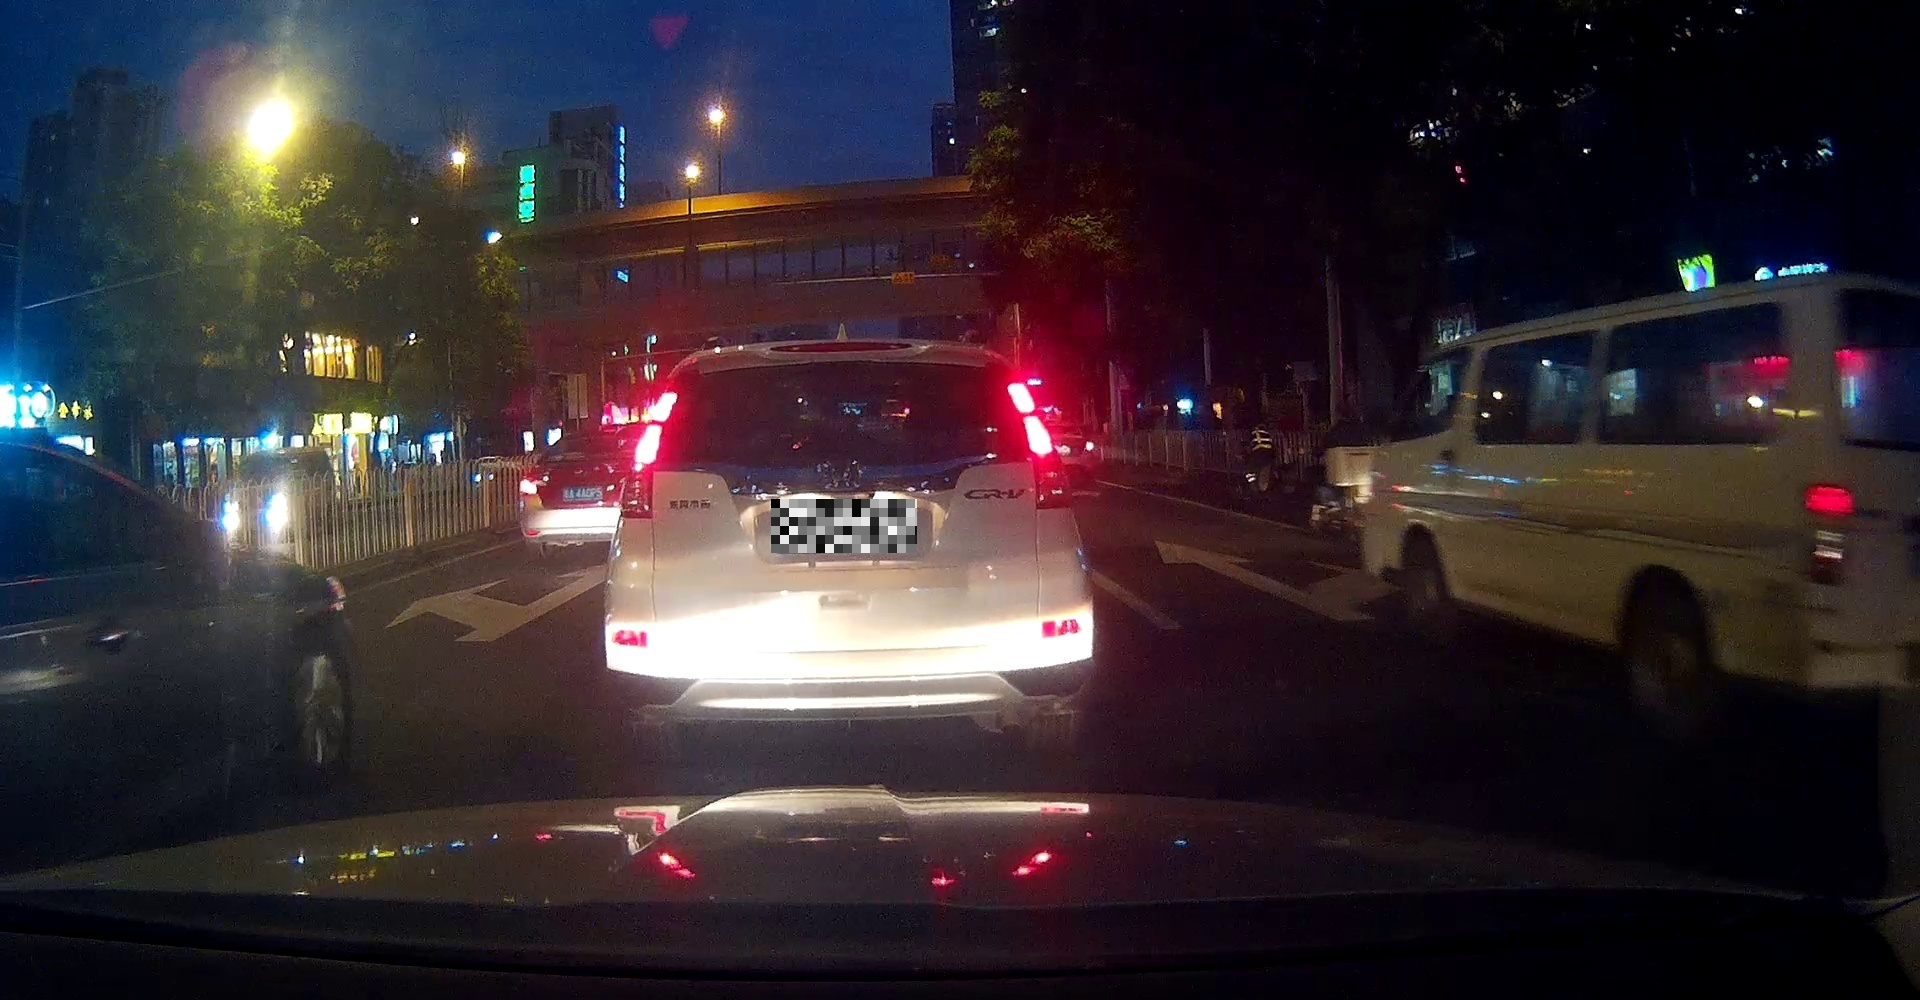L_light: (617, 390, 678, 518)
R_light: (1003, 376, 1070, 510)
T_light: (767, 339, 912, 355)
night-no: (602, 332, 1096, 766)
plate_1: (771, 499, 917, 553)
